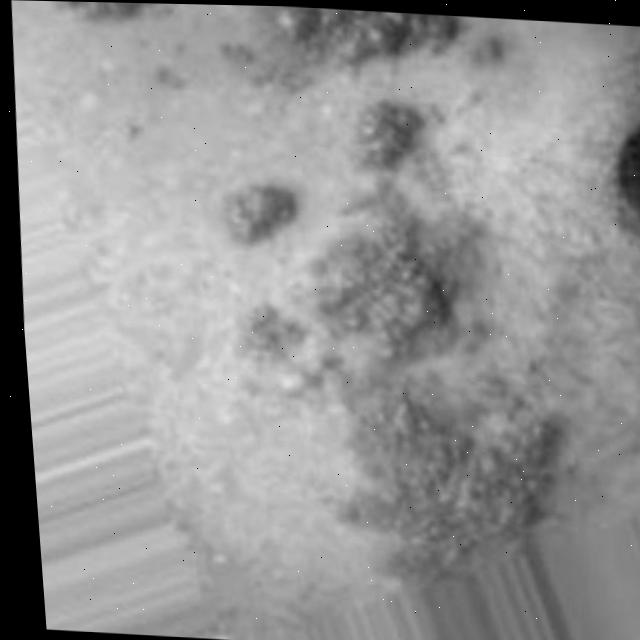Shingles: (202, 4, 582, 555), (52, 1, 163, 15)
